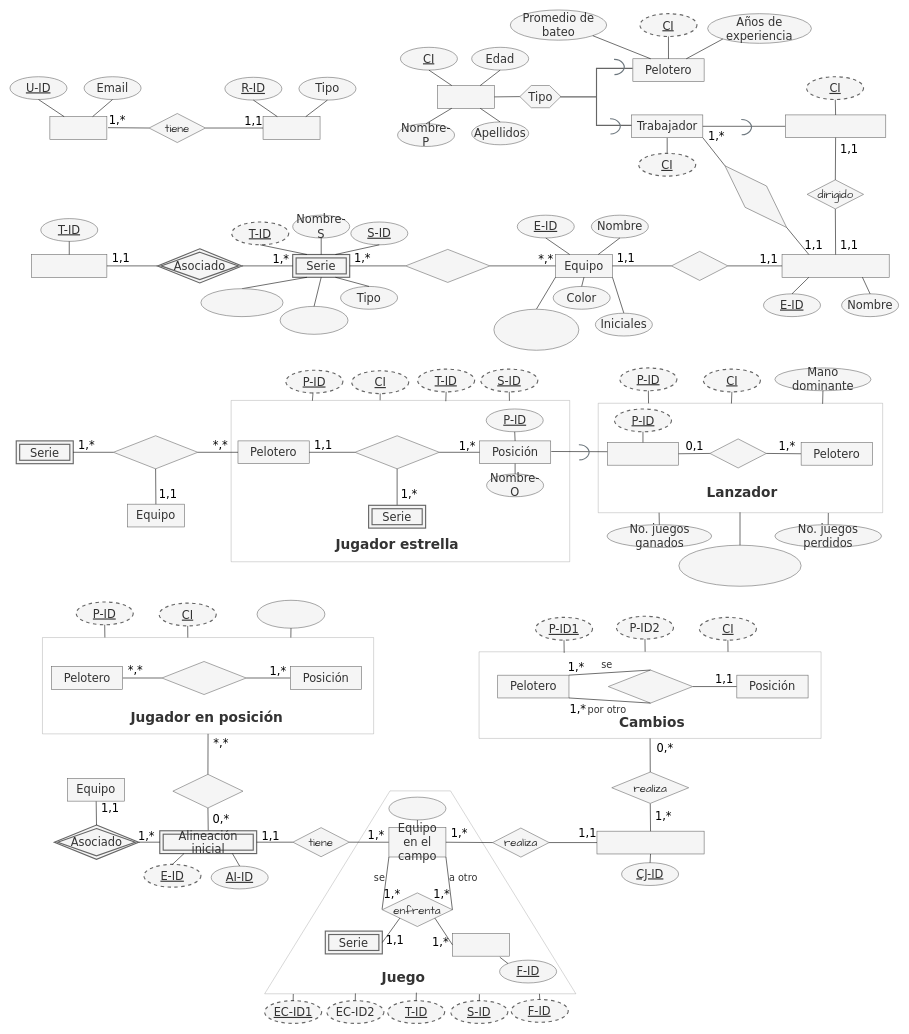
The diagram is 909 pixels wide and 1034 high, and some of its shapes have lost their labels. Each missing label, with the centre of its shape:
"cambia" goes at (650,686).
"Cambios de un juego" goes at (650,842).
"compiten" goes at (447,265).
"conforma" goes at (207,791).
"Director técnico" goes at (835,126).
"EC-ID" goes at (417,808).
"Efectividad" goes at (290,614).
"Entidad representante" goes at (536,329).
"Equipo de producción" goes at (835,265).
"esta" goes at (737,453).
"Fecha" goes at (480,944).
"Fecha de fin" goes at (314,320).
"Fecha de inicio" goes at (241,302).
"juega" goes at (203,678).
"participa" goes at (155,452).
"Persona" goes at (465,96).
"Pitch" goes at (643,453).
"posee" goes at (699,265).
"Promedio de carreras limpias permitidas" goes at (739,565).
"Rol" goes at (291,127).
"seleccionado" goes at (396,452).
"Temporada" goes at (69,265).
"trabajan" goes at (755,196).
"Usuario" goes at (78,127).
